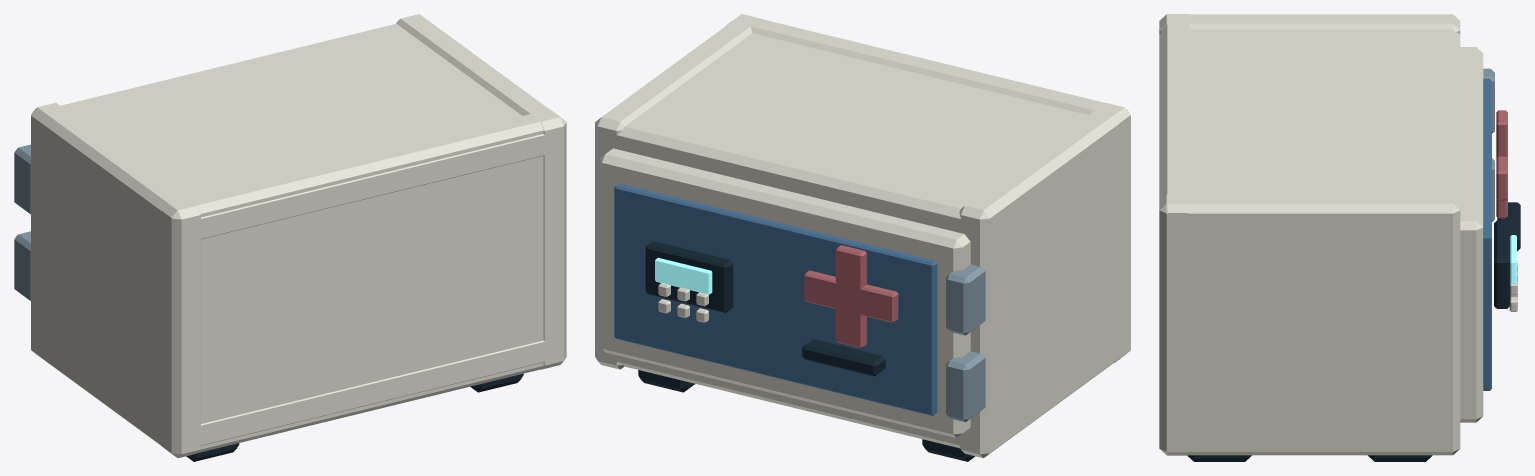
File: medical_case.glb
3 renders of one model, left to right at view 1: azimuth 30°, elevation 25°; view 2: azimuth 150°, elevation 25°; view 3: azimuth 270°, elevation 25°, orthographic.
Visible parts, largest first — view 1: back, top, left, bottom, right, hinge (×2); view 2: top, inset, left, door_panel, back, bottom, right, hinge (×2), display, medical_cross_v, medical_cross_h, handle (+2 smaller); view 3: right, top, back, door_panel, bottom, left, inset, display, foot (×2), medical_cross_v, medical_cross_h, handle.
Boxes of the visible parts, left/top/right/bottom form: back: left=161, top=109, right=566, bottom=457; top: left=31, top=23, right=566, bottom=243; left: left=31, top=102, right=200, bottom=458; bottom: left=31, top=326, right=566, bottom=450; right: left=396, top=14, right=566, bottom=369; hinge (×2): left=14, top=144, right=30, bottom=300; top: left=595, top=33, right=1130, bottom=243; inset: left=614, top=183, right=937, bottom=415; left: left=959, top=102, right=1130, bottom=458; door_panel: left=599, top=148, right=970, bottom=437; back: left=727, top=14, right=1130, bottom=362; bottom: left=595, top=326, right=1130, bottom=450; right: left=595, top=14, right=760, bottom=369; hinge (×2): left=946, top=264, right=985, bottom=422; display: left=645, top=241, right=733, bottom=312; medical_cross_v: left=835, top=245, right=866, bottom=348; medical_cross_h: left=804, top=270, right=898, bottom=322; handle: left=802, top=339, right=885, bottom=376; right: left=1159, top=194, right=1460, bottom=455; top: left=1159, top=29, right=1460, bottom=237; back: left=1160, top=14, right=1192, bottom=455; door_panel: left=1460, top=47, right=1483, bottom=422; bottom: left=1159, top=424, right=1460, bottom=447; left: left=1159, top=14, right=1460, bottom=34; inset: left=1483, top=78, right=1491, bottom=390; display: left=1494, top=220, right=1510, bottom=308; foot (×2): left=1187, top=455, right=1432, bottom=461; medical_cross_v: left=1496, top=110, right=1507, bottom=218; medical_cross_h: left=1496, top=156, right=1507, bottom=200; handle: left=1497, top=202, right=1520, bottom=251.
Size of the model in its own units: 1 by 0.65 by 0.78.
